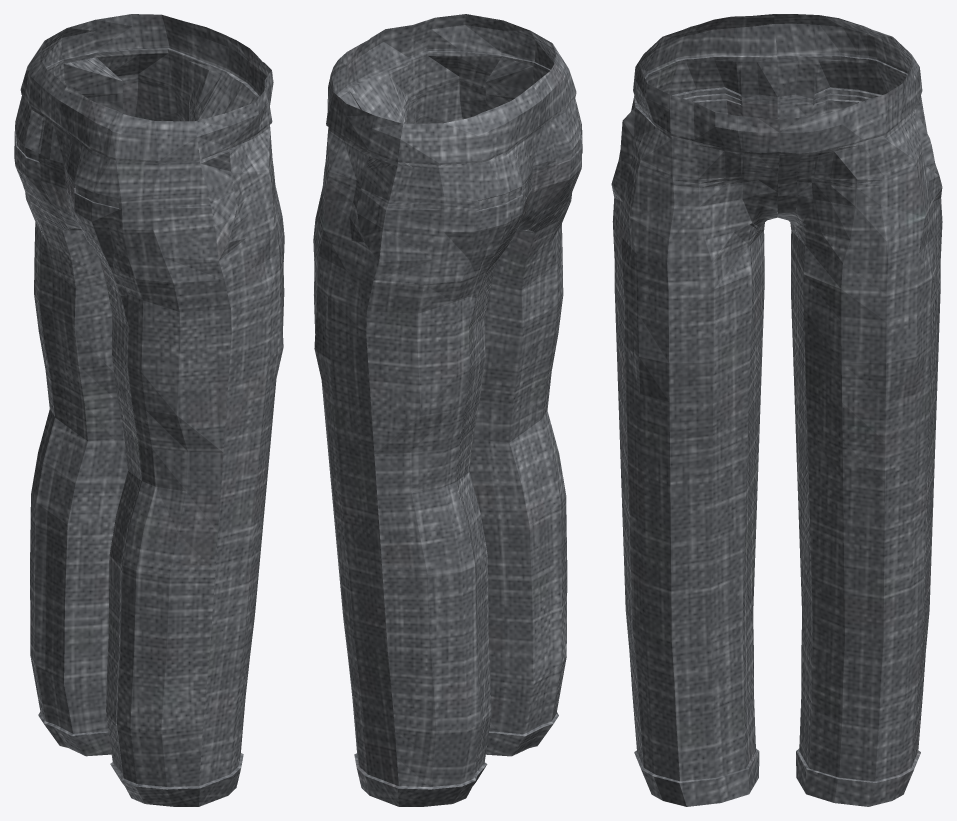
The model's file is GREYpants.1qglb.glb.
3 renders of one model, left to right at view 1: azimuth 30°, elevation 25°; view 2: azimuth 150°, elevation 25°; view 3: azimuth 270°, elevation 25°, orthographic. The views are drawn at different scales.
Parts seen in each view (by area): view 1: Head; view 2: Head; view 3: Head.
Part boxes in pixels (x1=…): Head: x1=14, y1=14, x2=284, y2=806; Head: x1=313, y1=14, x2=582, y2=806; Head: x1=611, y1=14, x2=942, y2=806.
Size of the model in its own units: 0.3424 by 1.13 by 0.4653.
1 material, 1 textured.
